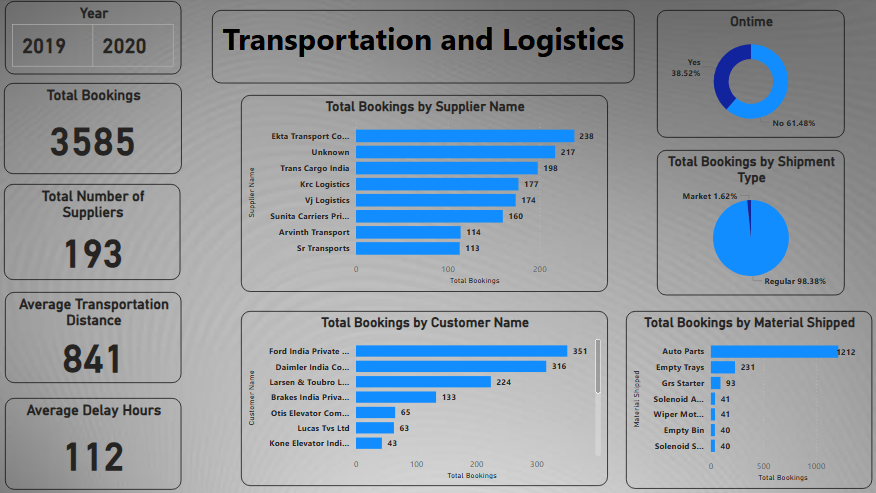

Layout of this report page (visuals, bound fields, positions):
{"tool":"powerbi","page":{"name":"Page 1","canvas":[1280,720],"ordinal":0},"visuals":[{"type":"card","title":"Total Bookings","fields":{"Values":["Primary Data.Total Bookings"]},"box":[12.5,121.6,252.1,128.7],"z":0},{"type":"card","title":"Total Number of Suppliers","fields":{"Values":["Primary Data.Total Number of Suplliers"]},"box":[12.5,264.6,250.3,135.9],"z":1000},{"type":"card","title":"Average Transportation Distance","fields":{"Values":["Avg(Primary Data.Transportation Distance (KM))"]},"box":[14.3,418.3,250.3,128.7],"z":2000},{"type":"clusteredBarChart","fields":{"Category":["Primary Data.Supplier Name"],"Y":["Primary Data.Total Bookings"]},"box":[348.6,139.4,520.2,278.9],"z":3000},{"type":"clusteredBarChart","fields":{"Category":["Primary Data.Customer Name"],"Y":["Primary Data.Total Bookings"]},"box":[348.2,446.6,520.8,248.3],"z":4000},{"type":"pieChart","fields":{"Category":["Primary Data.Shipment Type"],"Y":["Primary Data.Total Bookings"]},"box":[938.5,216.3,266.4,205.6],"z":5000},{"type":"clusteredBarChart","fields":{"Category":["Primary Data.Material Shipped"],"Y":["Primary Data.Total Bookings"]},"box":[893.9,445.1,348.6,252.1],"z":6000},{"type":"card","title":"Average Delay Hours","fields":{"Values":["Avg(Primary Data.Time Difference)"]},"box":[14.3,567.9,249.7,129.9],"z":7000},{"type":"donutChart","title":"Ontime","fields":{"Y":["Primary Data.Delay and Ontime"],"Category":["Primary Data.Ontime"]},"box":[938.5,17.9,266.4,180.6],"z":8000},{"type":"textbox","box":[307.5,17.9,598.9,103.7],"z":9000},{"type":"advancedSlicerVisual","fields":{"Values":["Calender Table.Year"]},"box":[14.3,5.4,250.3,103.7],"z":10000}]}

Visuals, with their boxes in screenshot pixels (x1, y1, x2, y2), scaled from the page's 1280x720 canvas onto the 876x493 screenshot:
"Total Bookings" card: select_region(9, 83, 181, 171)
"Total Number of Suppliers" card: select_region(9, 181, 180, 274)
"Average Transportation Distance" card: select_region(10, 286, 181, 375)
clusteredBarChart - Primary Data.Supplier Name x Primary Data.Total Bookings: select_region(239, 95, 595, 286)
clusteredBarChart - Primary Data.Customer Name x Primary Data.Total Bookings: select_region(238, 306, 595, 476)
pieChart - Primary Data.Shipment Type x Primary Data.Total Bookings: select_region(642, 148, 825, 289)
clusteredBarChart - Primary Data.Material Shipped x Primary Data.Total Bookings: select_region(612, 305, 850, 477)
"Average Delay Hours" card: select_region(10, 389, 181, 478)
"Ontime" donutChart: select_region(642, 12, 825, 136)
textbox: select_region(210, 12, 620, 83)
advancedSlicerVisual - Calender Table.Year: select_region(10, 4, 181, 75)
